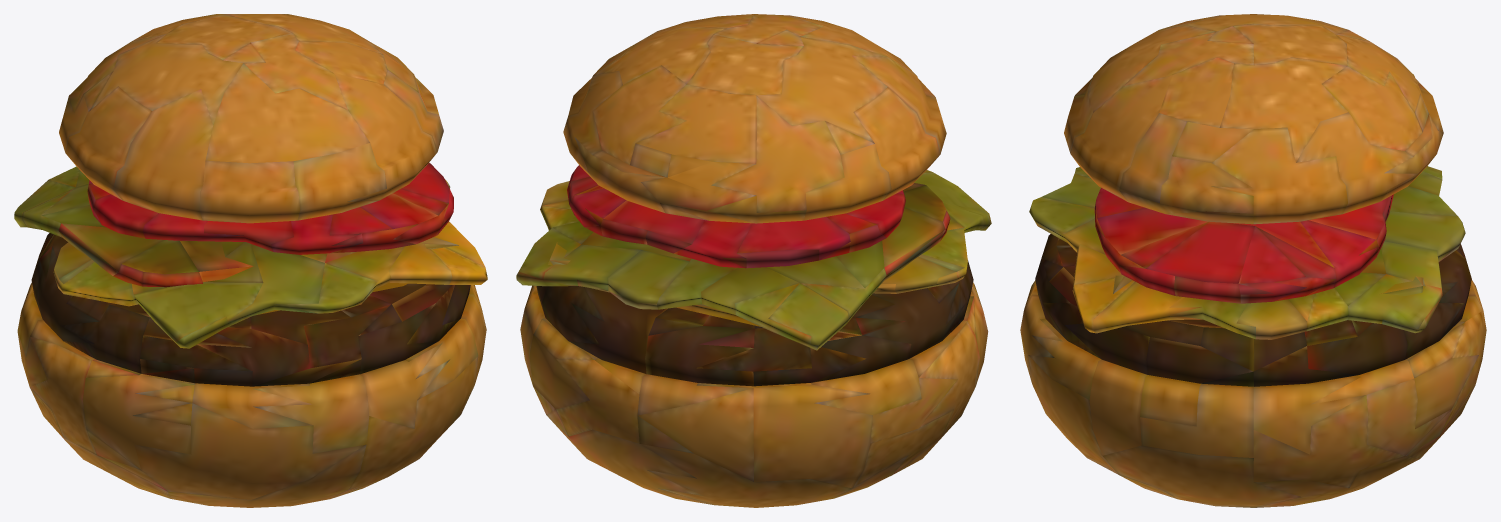
File: burger.glb
3 renders of one model, left to right at view 1: azimuth 30°, elevation 25°; view 2: azimuth 150°, elevation 25°; view 3: azimuth 270°, elevation 25°, orthographic.
Visible parts, largest first — view 1: geometry_0; view 2: geometry_0; view 3: geometry_0.
Boxes of the visible parts, <box> form: geometry_0: <box>14,14,487,507</box>; geometry_0: <box>516,14,991,507</box>; geometry_0: <box>1020,14,1486,507</box>.
Size of the model in its own units: 0.9996 by 1 by 0.9945.
Materials: 1 (1 with a texture image).
